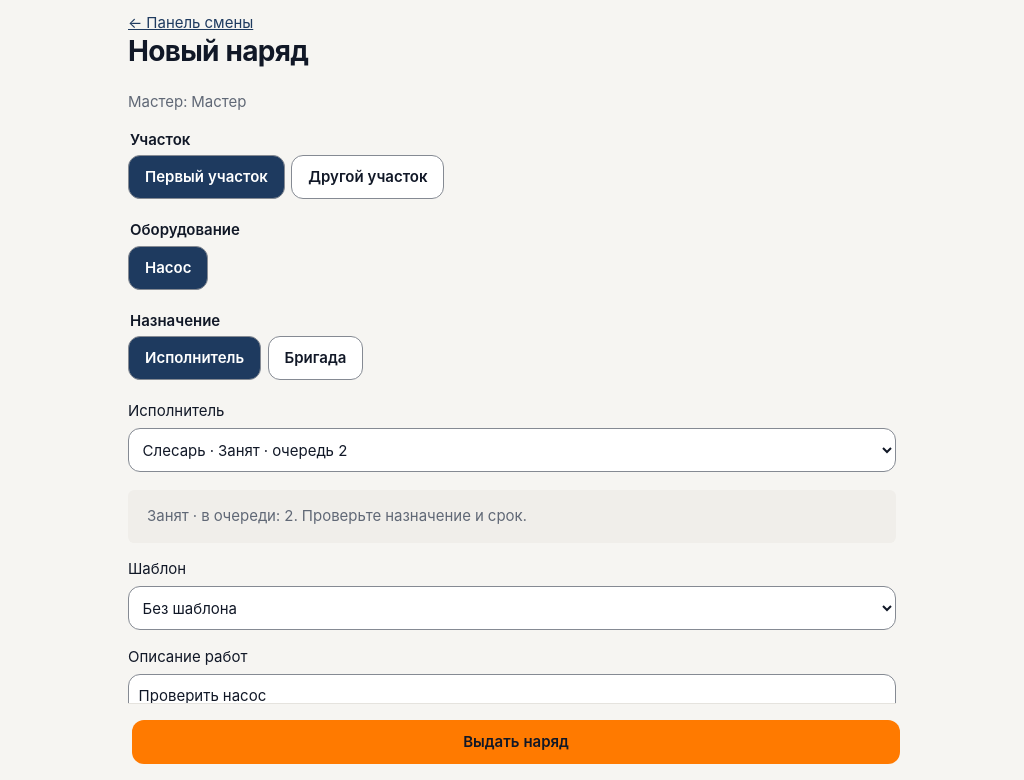
Test: clears incompatible equipment and assignment on an area change
The width and height of the screenshot is (1024, 780).
Earlier steps of the test are not shown.
Click the button "Другой участок" at (368, 177), box 291,155 -> 444,199
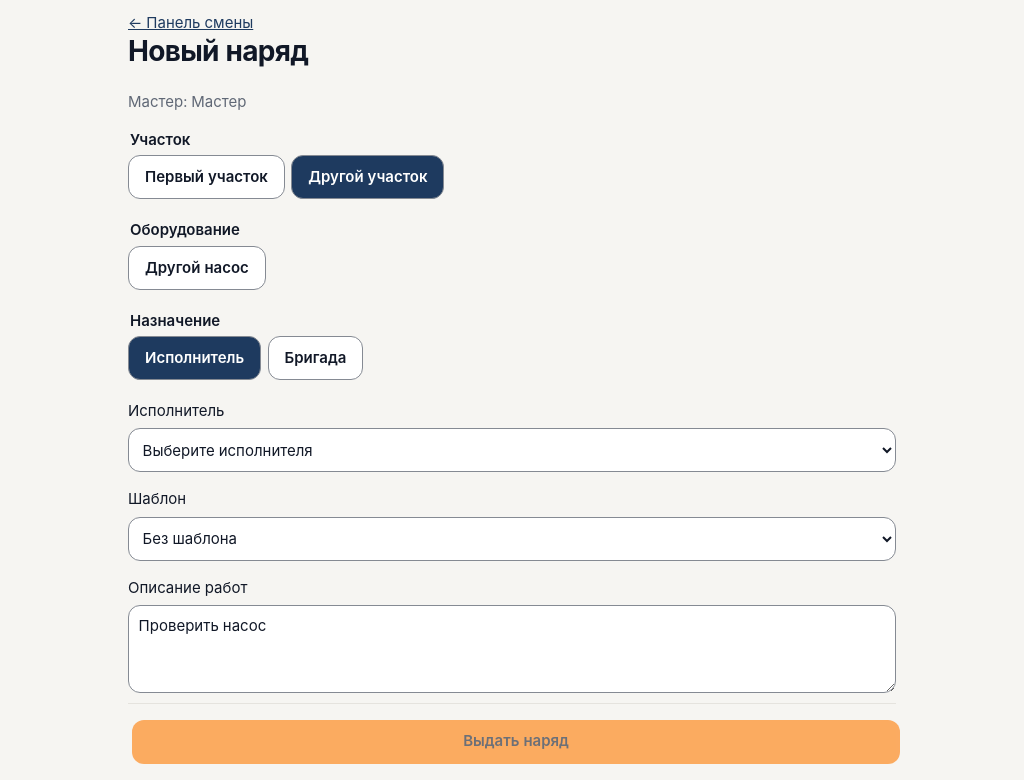
Check: the dropdown named "assignee_id" shows "Выберите исполнителя", box 128,428 -> 896,472
Check: the button "Выдать наряд" is disabled, box 132,720 -> 900,764
